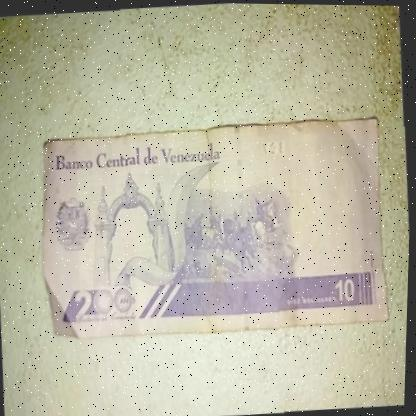ten-back-vef: (38, 111, 396, 344)
